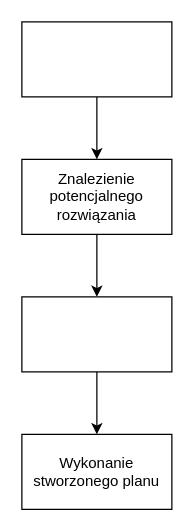
Some shapes in this 194 by 531 pixel diagram are drawn without their labels. Here are the shapes that lost their labels. From the top down, the box of each, then its label:
(21, 21, 172, 97): Identyfikacja problemu
(21, 296, 172, 372): Stworzenie planu rozwiązania problemu
